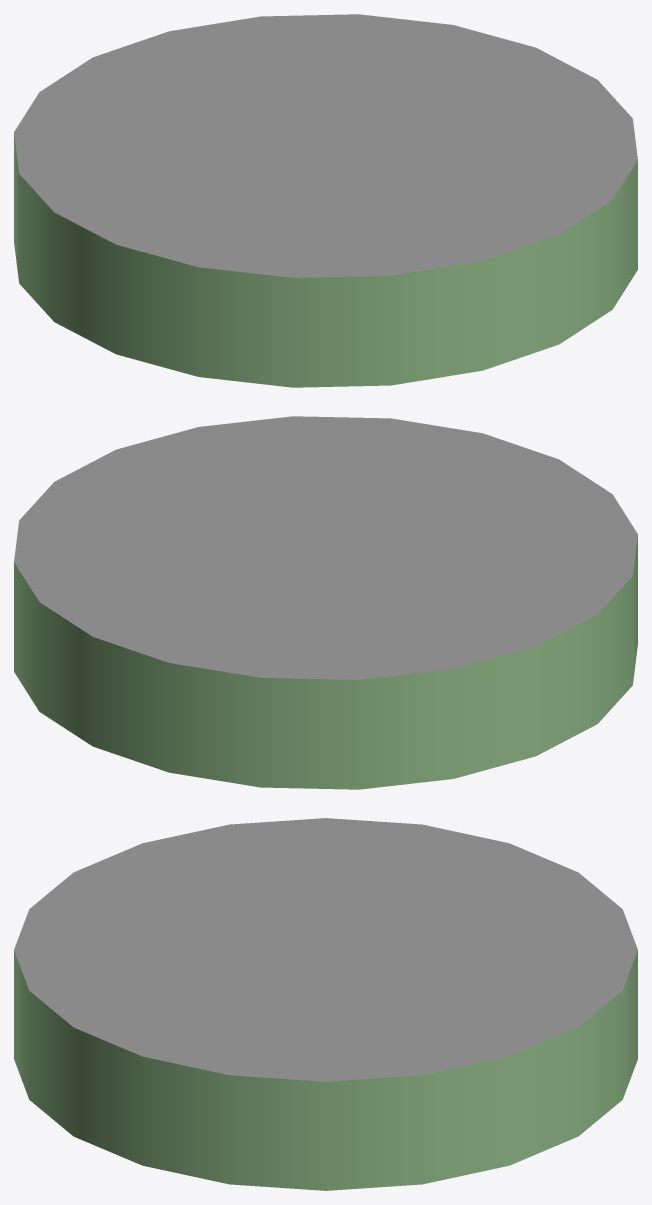
File: finaln.FBX
3 views of the same model, one above another, from view 1: azimuth 30°, elevation 25°; view 2: azimuth 150°, elevation 25°; view 3: azimuth 270°, elevation 25° (orthographic).
Parts seen in each view (by area): view 1: Cylinder001; view 2: Cylinder001; view 3: Cylinder001.
Part boxes in pixels (x1,y1,x2,y2): Cylinder001: (14,14,637,387); Cylinder001: (14,416,637,789); Cylinder001: (14,818,637,1190).
Size of the model in its own units: 46.79 by 46.79 by 9.03.
